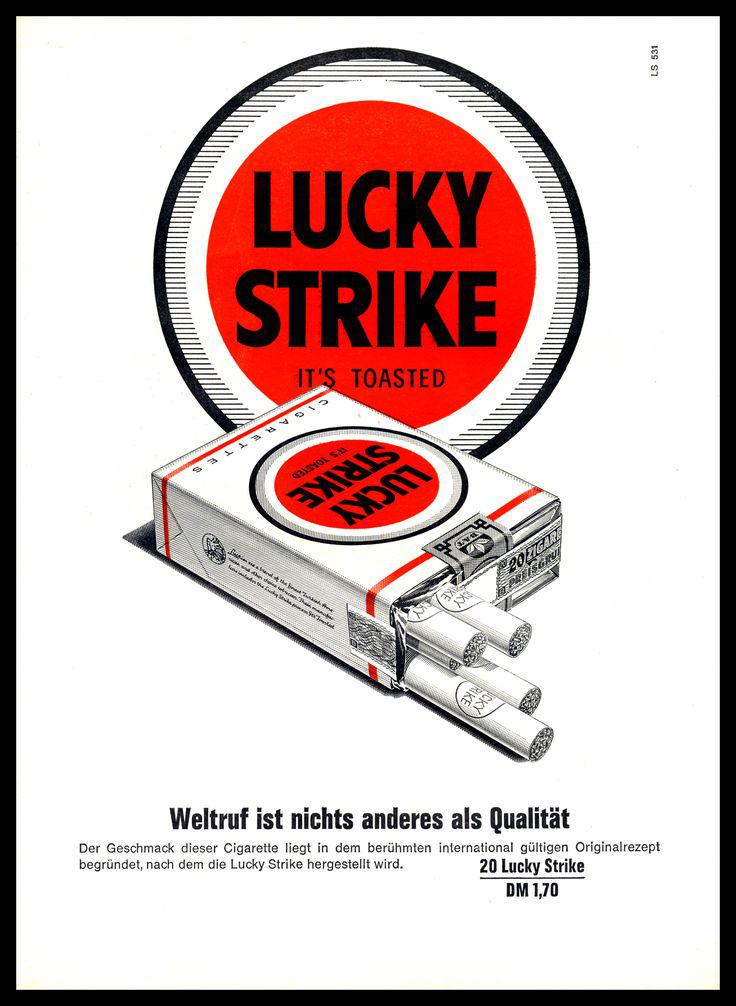lucky_strike_red: (183, 411, 516, 553)
